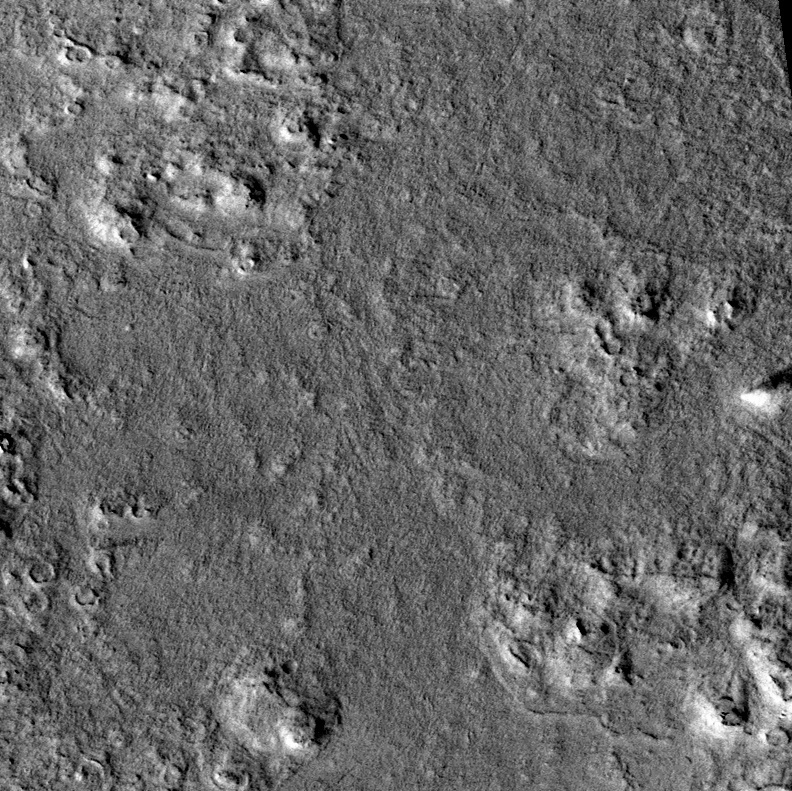dust_devil: (736, 362, 792, 412)
